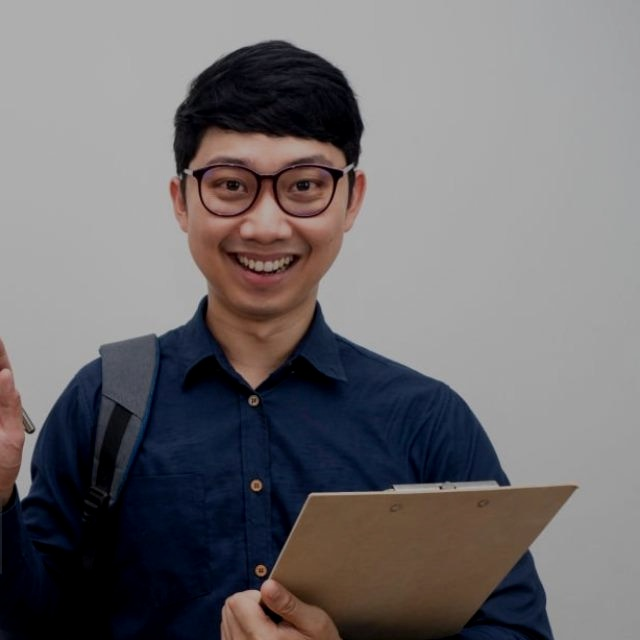Sin_Casco_Mascarrilla: (169, 41, 368, 314)
Sin_Chaleco: (42, 317, 478, 639)
